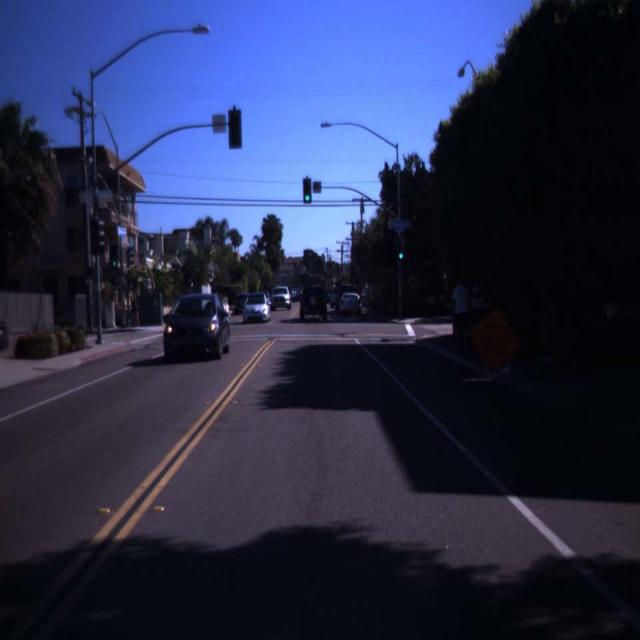yesil: (302, 178, 312, 205), (396, 238, 404, 262)
